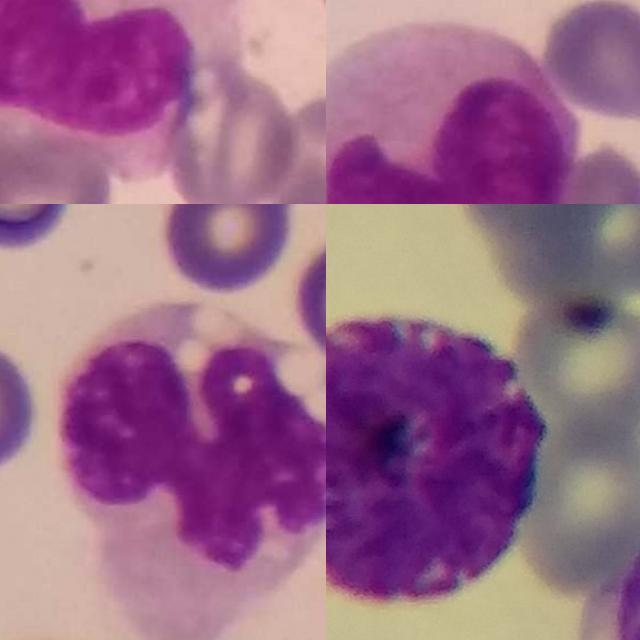Basophil: (326, 311, 549, 606)
Monocyte: (63, 300, 326, 640), (326, 15, 579, 204), (0, 0, 260, 162), (574, 519, 640, 640)
